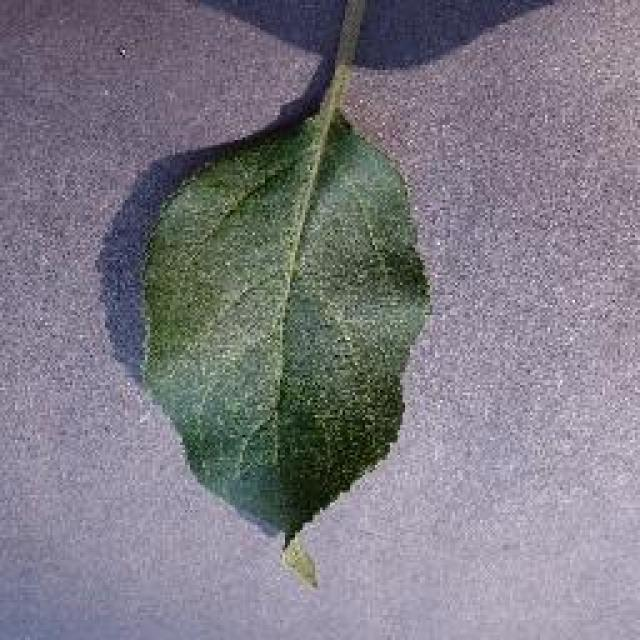apple healthy: (133, 100, 435, 572)
